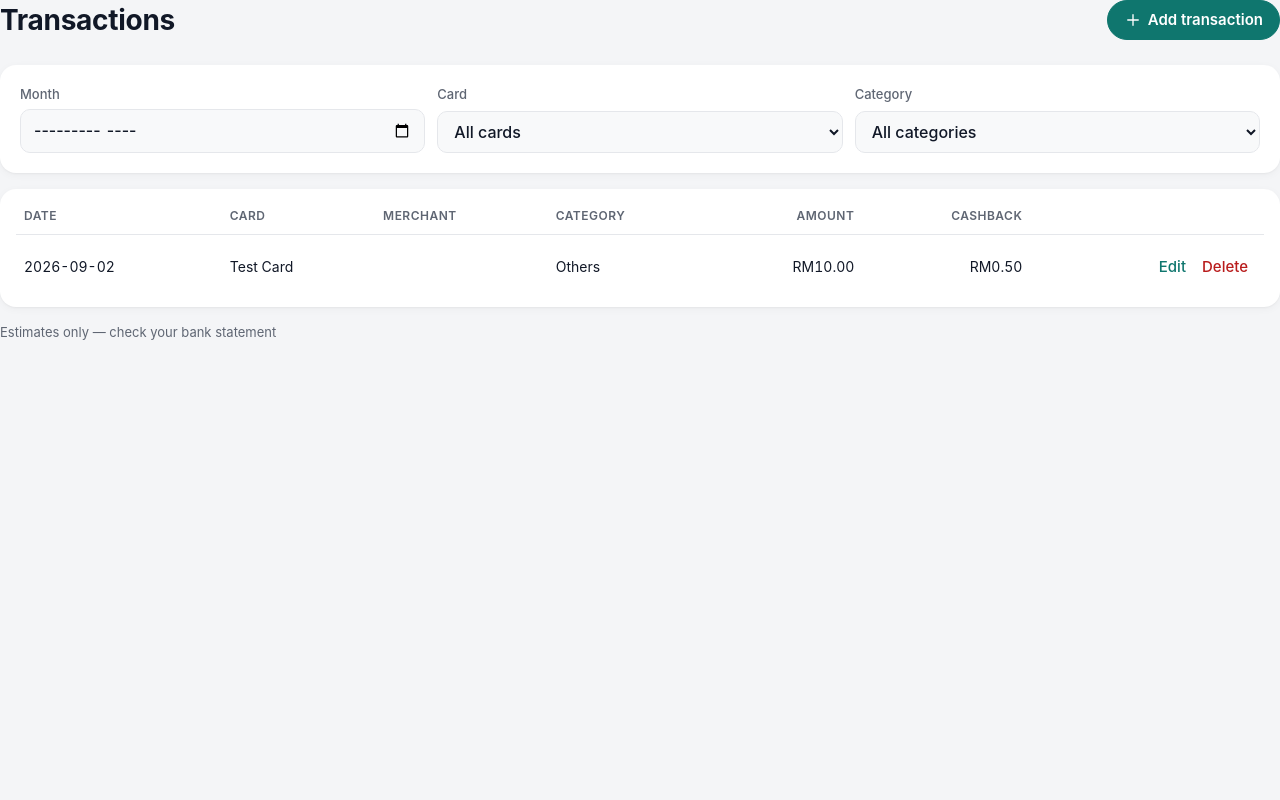
Test case: TransactionsPage › opens the form filled in when editing
Click the button "Edit".
click(1172, 267)  # box [1151,247,1194,287]
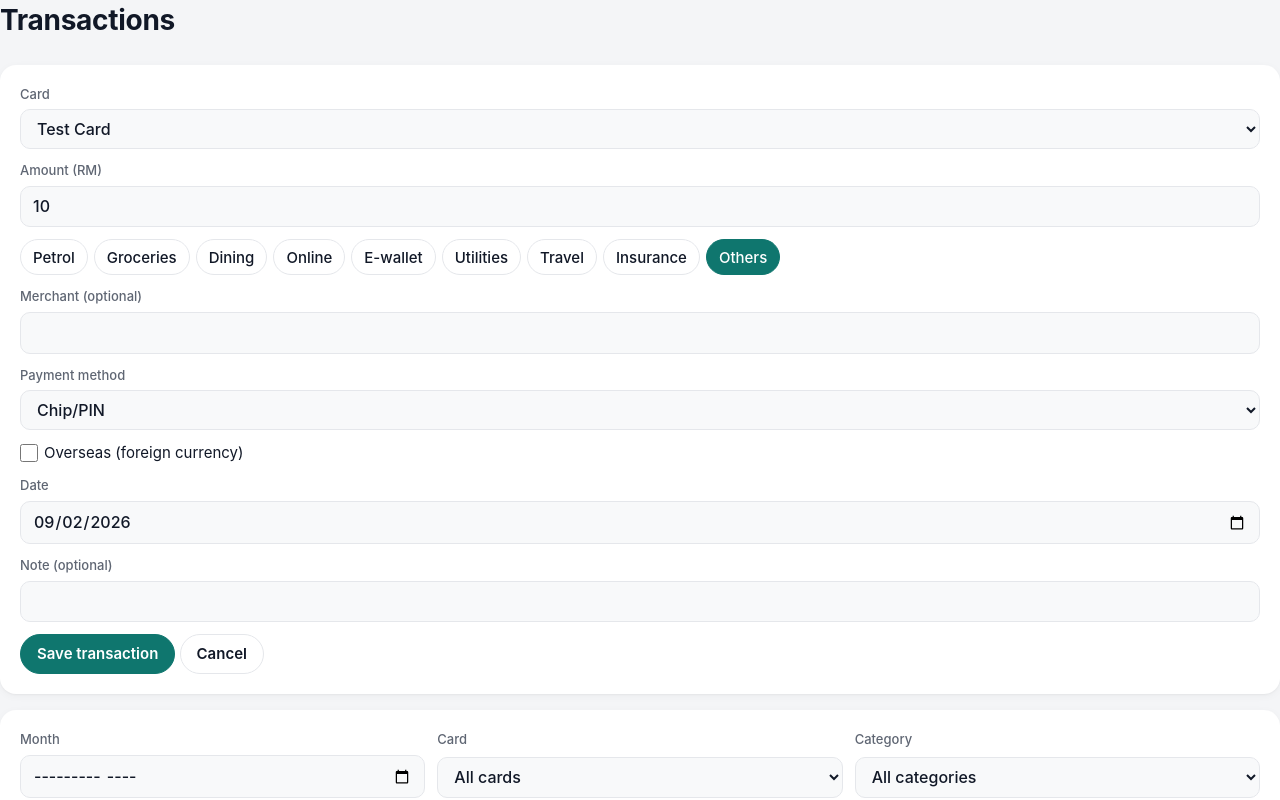
expect the field labelled "Amount (RM)" holds "10": met, box [20,186,1260,228]
expect the button "Add transaction" is gone: met
